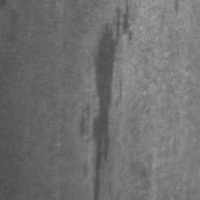inclusion: (91, 2, 136, 199)
